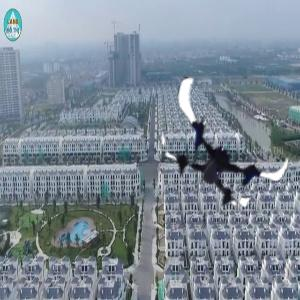drone: (156, 87, 294, 225)
